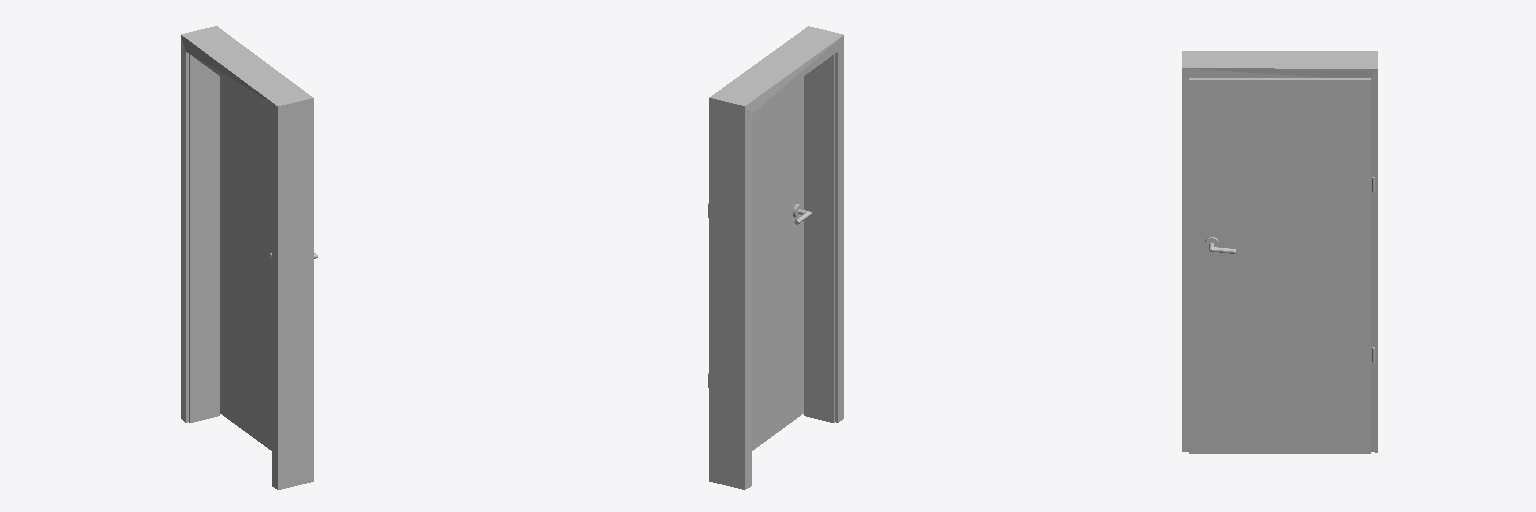
The model's file is door102.obj.
3 views of the same model, side by side, from view 1: azimuth 30°, elevation 25°; view 2: azimuth 150°, elevation 25°; view 3: azimuth 270°, elevation 25° (orthographic).
Visible parts, largest first — view 1: Cylinder.005, Cylinder.001; view 2: Cylinder.005, Cylinder.001; view 3: Cylinder.001, Cylinder.005.
Boxes of the visible parts, box(x1,y1,x2,y2) form: Cylinder.005: box(181, 26, 313, 489); Cylinder.001: box(220, 77, 271, 450); Cylinder.005: box(708, 26, 843, 489); Cylinder.001: box(708, 77, 803, 450); Cylinder.001: box(1189, 78, 1374, 453); Cylinder.005: box(1182, 51, 1377, 452).
Size of the model in its own units: 0.3039 by 2.05 by 0.95.